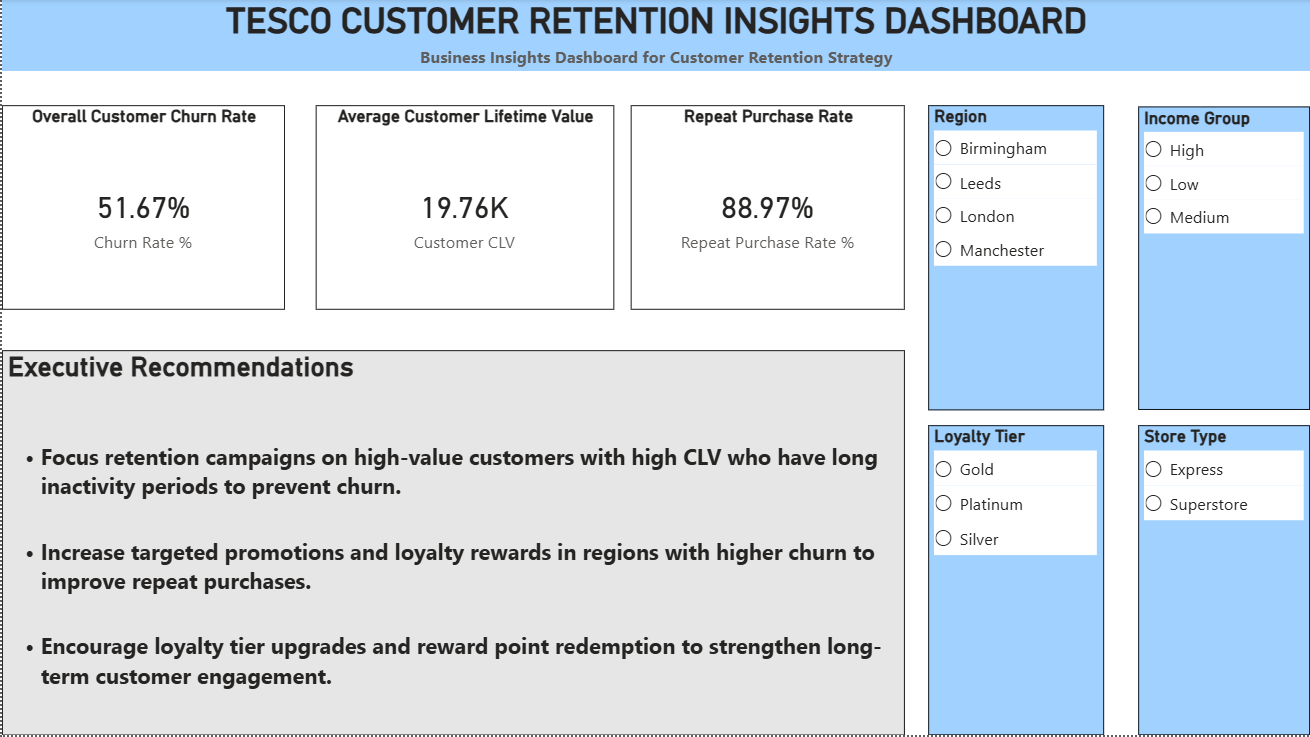

What the dashboard file says about the page in this screenshot:
{"tool":"powerbi","page":{"name":"TESCO CUSTOMER RETENTION DASHBOARD (Executive Summary)","canvas":[1280,720],"ordinal":5},"visuals":[{"type":"textbox","title":"TESCO CUSTOMER RETENTION INSIGHTS DASHBOARD","box":[0,0,1280,70],"z":0},{"type":"card","title":"Overall Customer Churn Rate","fields":{"Values":["Churn_Labelled_Customers.Churn Rate %"]},"box":[0,103.3,276.7,200],"z":1000},{"type":"card","title":"Average Customer Lifetime Value","fields":{"Values":["Customer_Transactions.Customer CLV"]},"box":[306.7,103.3,291.7,200],"z":2000},{"type":"card","title":"Repeat Purchase Rate","fields":{"Values":["Customer_Transactions.Repeat Purchase Rate %"]},"box":[615,103.3,268.3,200],"z":3000},{"type":"listSlicer","fields":{"Values":["Store_Locations.Region"]},"box":[906.7,103.3,171.7,298.3],"z":4000},{"type":"listSlicer","title":"Income Group","fields":{"Values":["Customer_Demographics.Income_Group"]},"box":[1111.7,105,168.3,296.7],"z":5000},{"type":"listSlicer","title":"Loyalty Tier","fields":{"Values":["Loyalty_Program.Loyalty_Tier"]},"box":[906.7,416.7,171.7,303.3],"z":6000},{"type":"listSlicer","title":"Store Type","fields":{"Values":["Store_Locations.Store_Type"]},"box":[1111.7,416.7,168.3,303.3],"z":7000},{"type":"textbox","title":"Executive Recommendations","box":[0,343.3,883.3,376.7],"z":8000}]}

Visuals, with their boxes in screenshot pixels (x1, y1, x2, y2), scaled from the page's 1280x720 canvas onto the 1310x737 screenshot:
"TESCO CUSTOMER RETENTION INSIGHTS DASHBOARD" textbox: pyautogui.locateOnScreen(0, 0, 1309, 72)
"Overall Customer Churn Rate" card: pyautogui.locateOnScreen(0, 106, 283, 310)
"Average Customer Lifetime Value" card: pyautogui.locateOnScreen(314, 106, 612, 310)
"Repeat Purchase Rate" card: pyautogui.locateOnScreen(629, 106, 904, 310)
listSlicer - Store_Locations.Region: pyautogui.locateOnScreen(928, 106, 1104, 411)
"Income Group" listSlicer: pyautogui.locateOnScreen(1138, 107, 1309, 411)
"Loyalty Tier" listSlicer: pyautogui.locateOnScreen(928, 427, 1104, 736)
"Store Type" listSlicer: pyautogui.locateOnScreen(1138, 427, 1309, 736)
"Executive Recommendations" textbox: pyautogui.locateOnScreen(0, 351, 904, 736)
